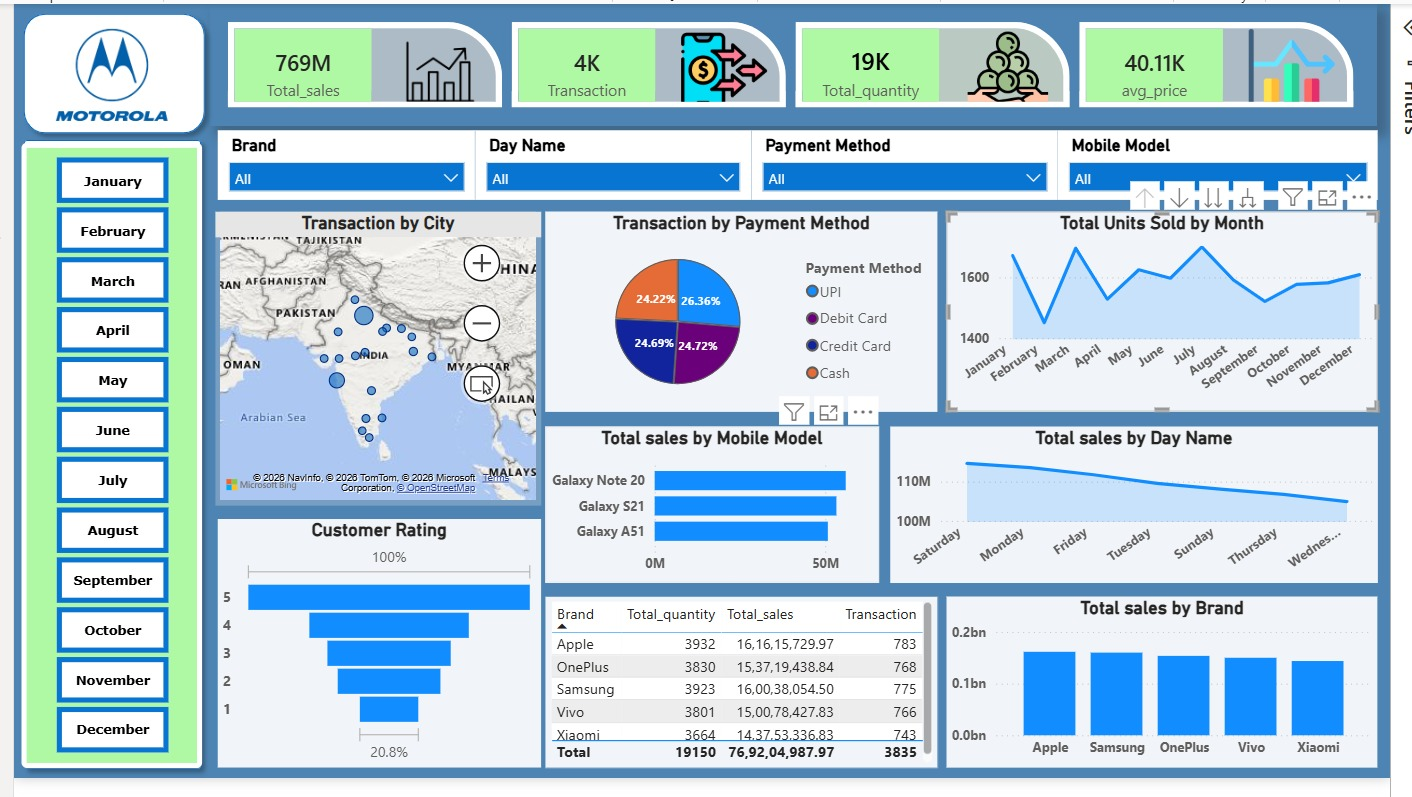

Layout of this report page (visuals, bound fields, positions):
{"tool":"powerbi","page":{"name":"Dashboard","canvas":[1280,720],"ordinal":0},"visuals":[{"type":"shape","box":[0,0,186.5,129.3],"z":0},{"type":"shape","box":[0,117.6,183.1,603],"z":1000},{"type":"image","box":[6.7,13.4,168,104.1],"z":2000},{"type":"cardVisual","fields":{"Data":["Sheet1.Total_sales","Sheet1.Transaction","Sheet1.Total_quantity","Sheet1.avg_price"]},"box":[182.8,0,1085.7,113.4],"z":3000},{"type":"map","fields":{"Category":["Sheet1.City"],"Size":["Sheet1.Transaction"]},"box":[187.1,192.8,303.3,273.5],"z":4000},{"type":"lineChart","title":"Total Units Sold by Month","fields":{"Category":["Sheet1.Date.Variation.Date Hierarchy.Month","Sheet1.Date.Variation.Date Hierarchy.Day"],"Y":["Sum(Sheet1.Units Sold)"]},"box":[829.1,192.8,439.4,185.7],"z":5000},{"type":"clusteredColumnChart","title":"Total sales by Brand","fields":{"Category":["Sheet1.Brand"],"Y":["Sheet1.Total_sales"]},"box":[815,551.3,453.5,158.7],"z":6000},{"type":"pieChart","fields":{"Y":["Sheet1.Transaction"],"Category":["Sheet1.Payment Method"]},"box":[494.6,192.8,320.3,185.7],"z":7000},{"type":"funnel","title":"Customer Rating","fields":{"Category":["Sheet1.Customer Ratings"],"Y":["CountNonNull(Sheet1.Customer Ratings)"]},"box":[189.9,479.1,300.5,231],"z":8000},{"type":"lineChart","title":"Total sales by Day Name","fields":{"Y":["Sheet1.Total_sales"],"Category":["Sheet1.Day Name"]},"box":[815,392.6,453.5,146],"z":9000},{"type":"clusteredBarChart","title":"Total sales by Mobile Model","fields":{"Y":["Sheet1.Total_sales"],"Category":["Sheet1.Mobile Model"]},"box":[494.6,392.6,310.4,146],"z":10000},{"type":"tableEx","fields":{"Values":["Sheet1.Brand","Sheet1.Total_quantity","Sheet1.Total_sales","Sheet1.Transaction"]},"box":[494.6,551.3,310.4,158.7],"z":11000},{"type":"slicer","fields":{"Values":["Sheet1.Brand"]},"box":[189.9,117.6,239.5,65.2],"z":12000},{"type":"slicer","fields":{"Values":["Sheet1.Day Name"]},"box":[429.4,117.6,256.5,65.2],"z":13000},{"type":"slicer","fields":{"Values":["Sheet1.Mobile Model"]},"box":[970.9,117.6,297.6,65.2],"z":14000},{"type":"slicer","fields":{"Values":["Sheet1.Payment Method"]},"box":[686,117.6,284.9,65.2],"z":15000},{"type":"slicer","fields":{"Values":["mobile_sales_Data.Date.Variation.Date Hierarchy.Month"]},"box":[6.7,129.3,168,581.2],"z":15001}]}

Visuals, with their boxes on the page's 1280x720 design canvas (x1, y1, x2, y2). These are canvas units, not pixel positions in the 1412x797 screenshot, which may show the page scaled, cropped or inside an application window:
shape: Rect(0, 0, 186, 129)
shape: Rect(0, 118, 183, 721)
image: Rect(7, 13, 175, 118)
cardVisual - Sheet1.Total_sales x Sheet1.Transaction: Rect(183, 0, 1268, 113)
map - Sheet1.City x Sheet1.Transaction: Rect(187, 193, 490, 466)
"Total Units Sold by Month" lineChart: Rect(829, 193, 1268, 378)
"Total sales by Brand" clusteredColumnChart: Rect(815, 551, 1268, 710)
pieChart - Sheet1.Transaction x Sheet1.Payment Method: Rect(495, 193, 815, 378)
"Customer Rating" funnel: Rect(190, 479, 490, 710)
"Total sales by Day Name" lineChart: Rect(815, 393, 1268, 539)
"Total sales by Mobile Model" clusteredBarChart: Rect(495, 393, 805, 539)
tableEx - Sheet1.Brand x Sheet1.Total_quantity: Rect(495, 551, 805, 710)
slicer - Sheet1.Brand: Rect(190, 118, 429, 183)
slicer - Sheet1.Day Name: Rect(429, 118, 686, 183)
slicer - Sheet1.Mobile Model: Rect(971, 118, 1268, 183)
slicer - Sheet1.Payment Method: Rect(686, 118, 971, 183)
slicer - mobile_sales_Data.Date.Variation.Date Hierarchy.Month: Rect(7, 129, 175, 710)
